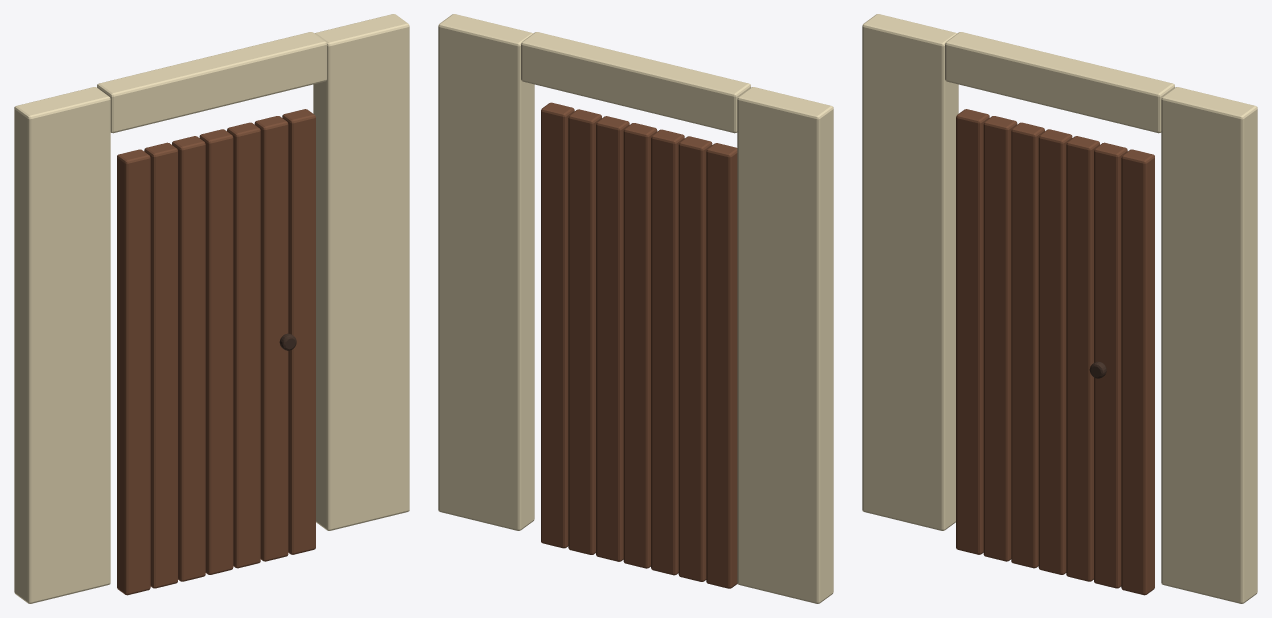
File: wall_door_2m__finish.glb
The picture shows the model from 3 angles, left to right: view 1: azimuth 30°, elevation 25°; view 2: azimuth 150°, elevation 25°; view 3: azimuth 330°, elevation 25°; orthographic projection.
Visible parts, largest first — view 1: wall_door_2m__finish__mesh_00; view 2: wall_door_2m__finish__mesh_00; view 3: wall_door_2m__finish__mesh_00.
Boxes of the visible parts, x1,y1,x2,y2 form: wall_door_2m__finish__mesh_00: (14,14,409,603); wall_door_2m__finish__mesh_00: (438,14,833,603); wall_door_2m__finish__mesh_00: (862,14,1257,603).
Bounding box in the file's own units: 1.8 × 2.27 × 0.2385.
